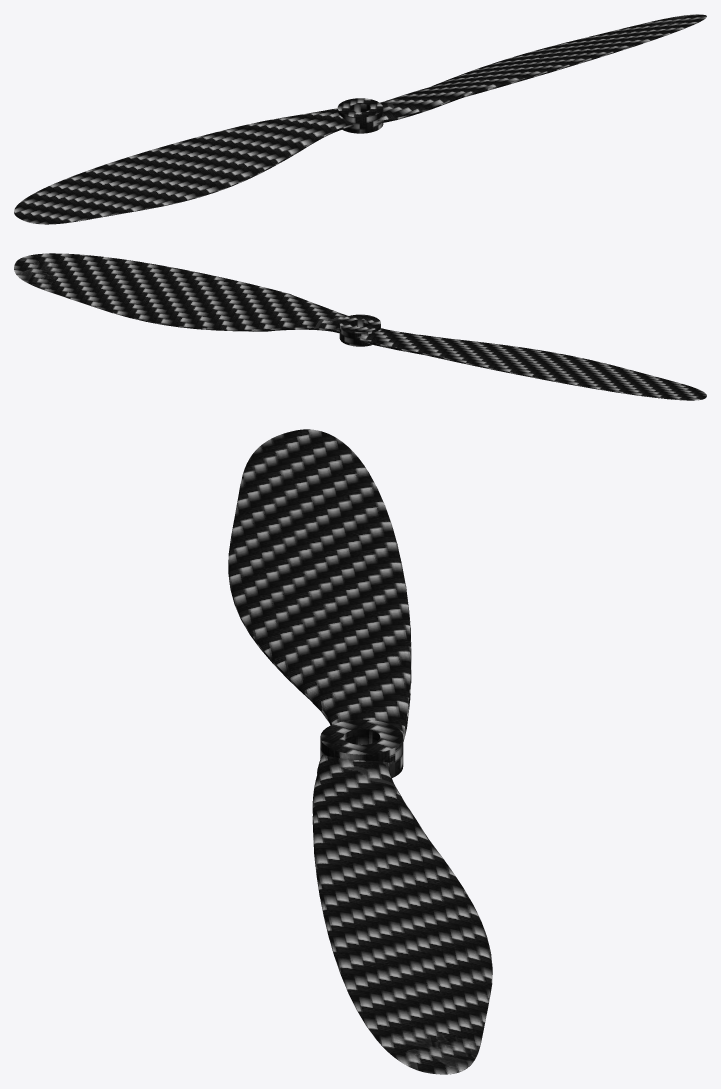
3 views of the same model, one above another, from view 1: azimuth 30°, elevation 25°; view 2: azimuth 150°, elevation 25°; view 3: azimuth 270°, elevation 25° (orthographic). The views are drawn at different scales.
Parts seen in each view (by area): view 1: Propeller_1340; view 2: Propeller_1340; view 3: Propeller_1340.
Boxes of the visible parts, <box> form: Propeller_1340: <box>14,14,706,224</box>; Propeller_1340: <box>14,253,706,400</box>; Propeller_1340: <box>228,429,492,1074</box>.
Bounding box in the file's own units: 0.329 × 0.0573 × 0.0102.
Materials: 1 (1 with a texture image).
